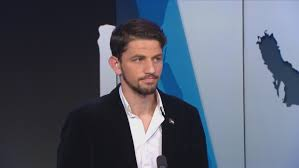middle_eastern_male: (115, 31, 165, 96)
